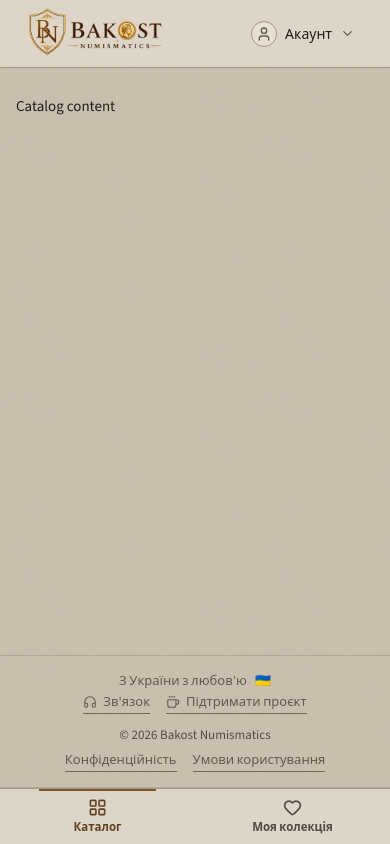
Scenario: AppLayout account state › offers login and display controls in the guest menu
The width and height of the screenshot is (390, 844).
Click the button with aria-label "Меню акаунта". click: (303,34)
box: [240,14,366,54]
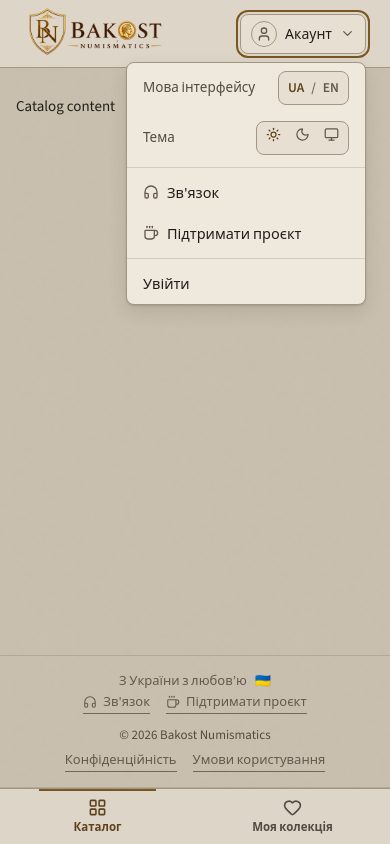
Result: the menu item "Увійти" is shown at [127,262,365,304]
Result: the text "Мова інтерфейсу" is shown at [143,77,255,98]
Result: the text "Тема" is shown at [143,127,175,148]
